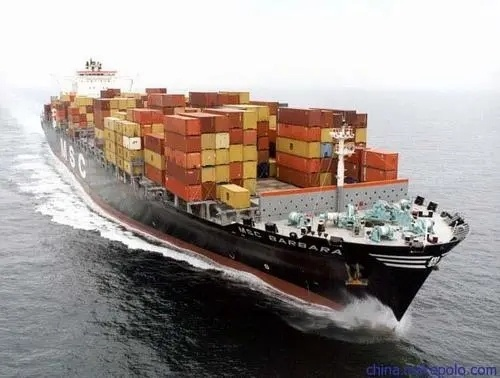Cargoship: (41, 54, 470, 339)
